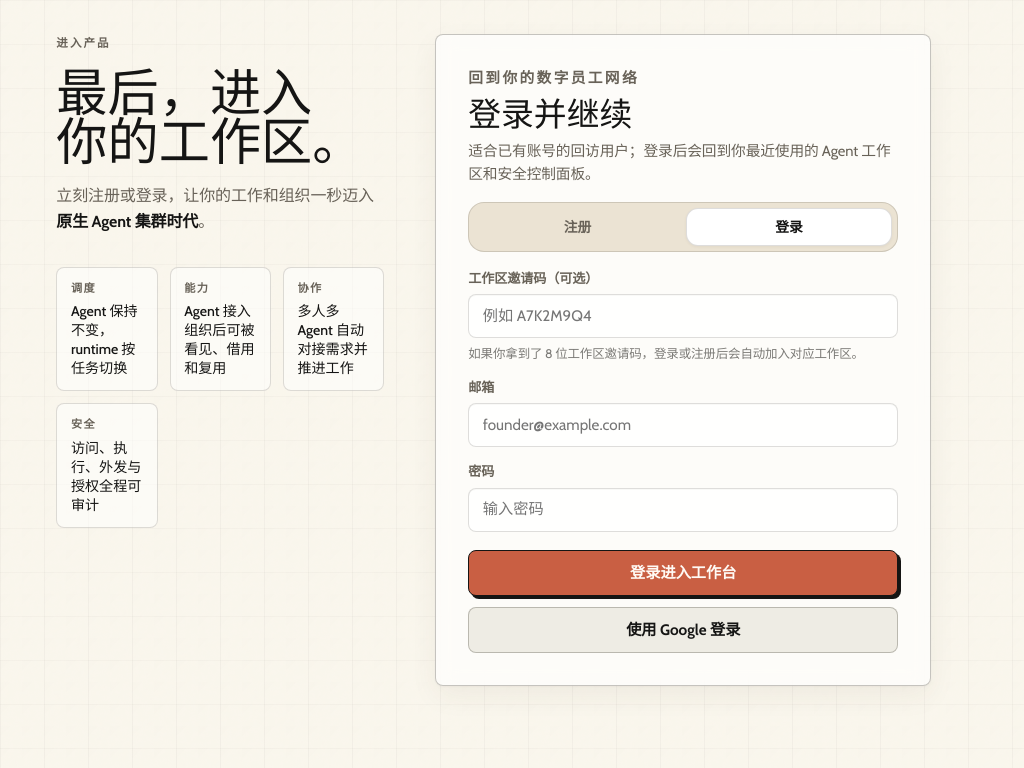
Test: AuthScreen › surfaces returned login account errors without navigating
(page scrolled)
Type "missing@example.com" into the field labelled "邮箱" at (683, 425), box [468, 403, 898, 447]
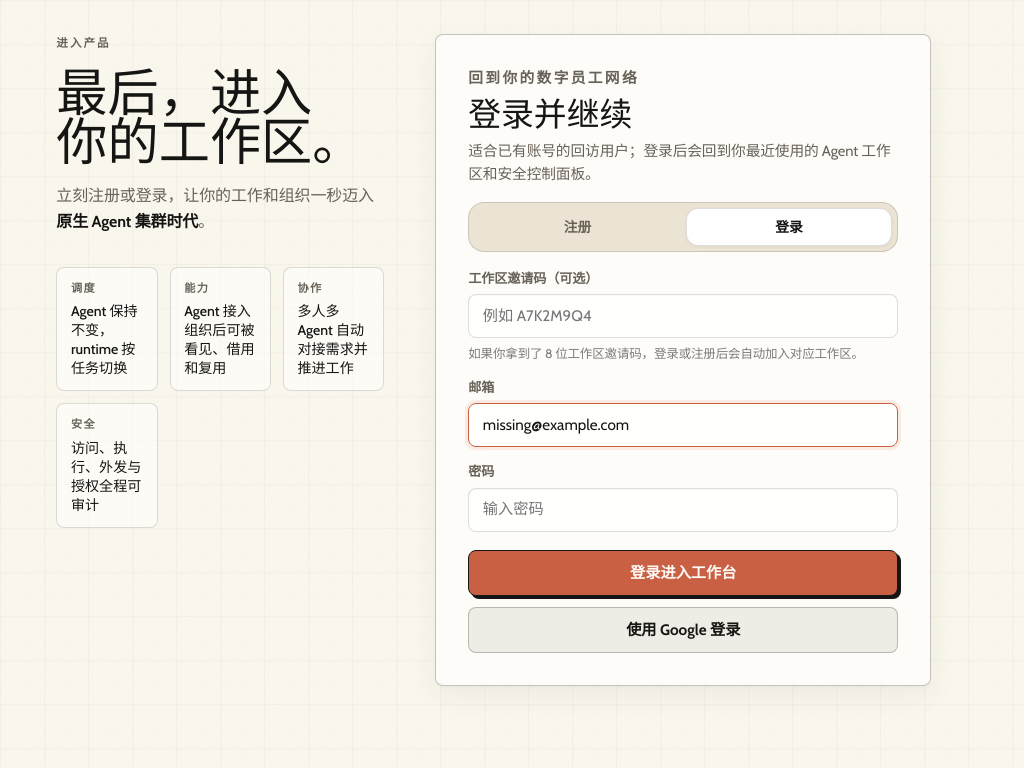
Type "secret-password" into the password field labelled "密码" at (683, 510), box [468, 488, 898, 532]
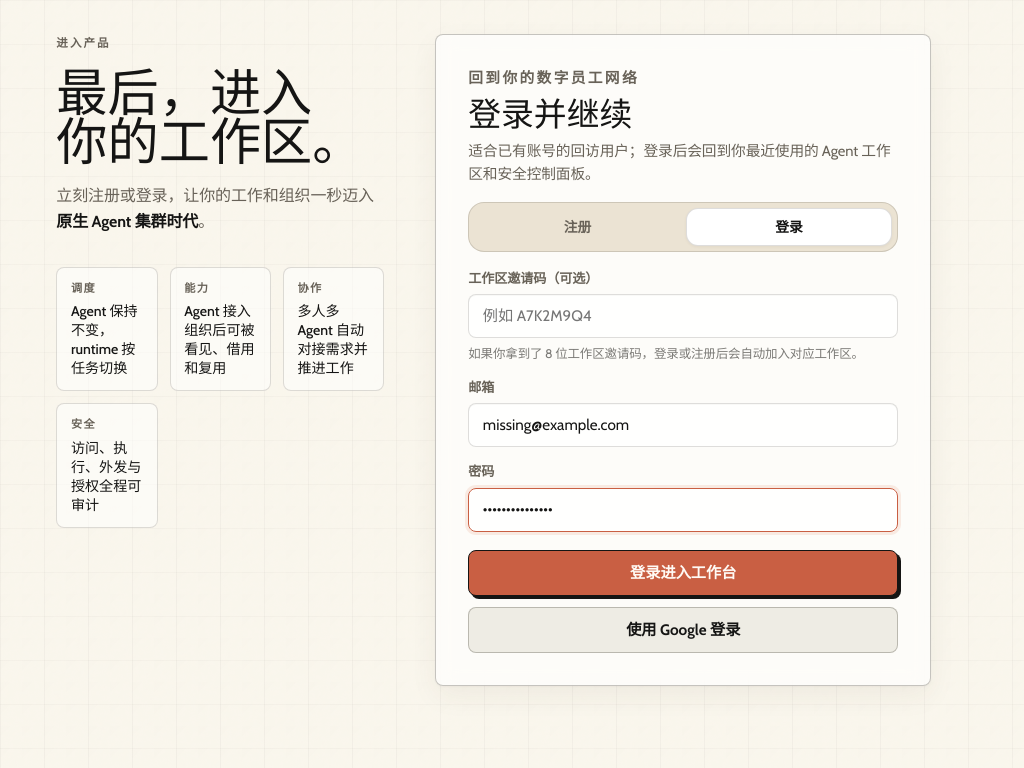
Click the button "登录进入工作台" at (683, 573), box [468, 550, 898, 596]
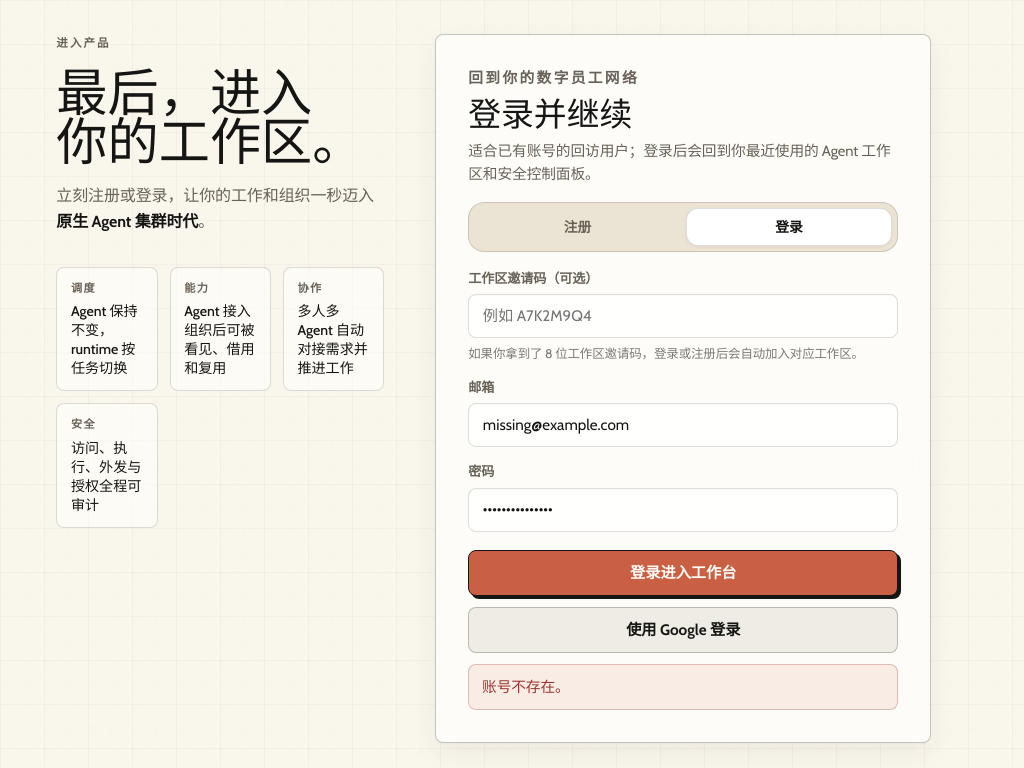
Now the message reads "账号不存在。", box [482, 678, 570, 696]
